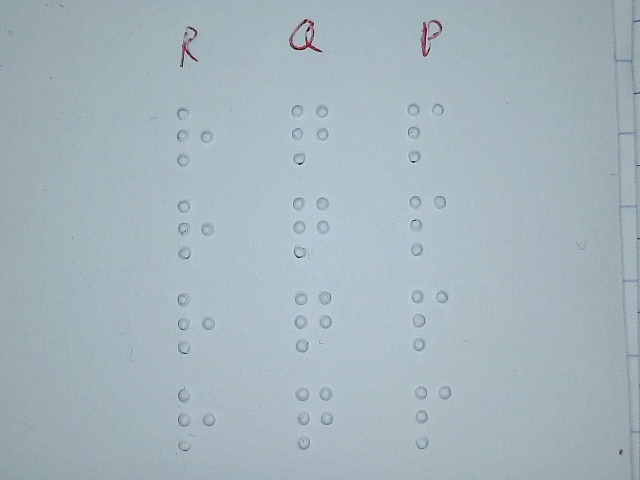P: (413, 384, 454, 450), (404, 100, 446, 164), (406, 193, 448, 257), (409, 287, 451, 351)
Q: (294, 384, 335, 450), (293, 288, 334, 354), (291, 193, 332, 259), (289, 102, 331, 166)
R: (175, 386, 216, 452), (175, 289, 216, 355), (175, 196, 216, 262), (174, 105, 216, 169)
